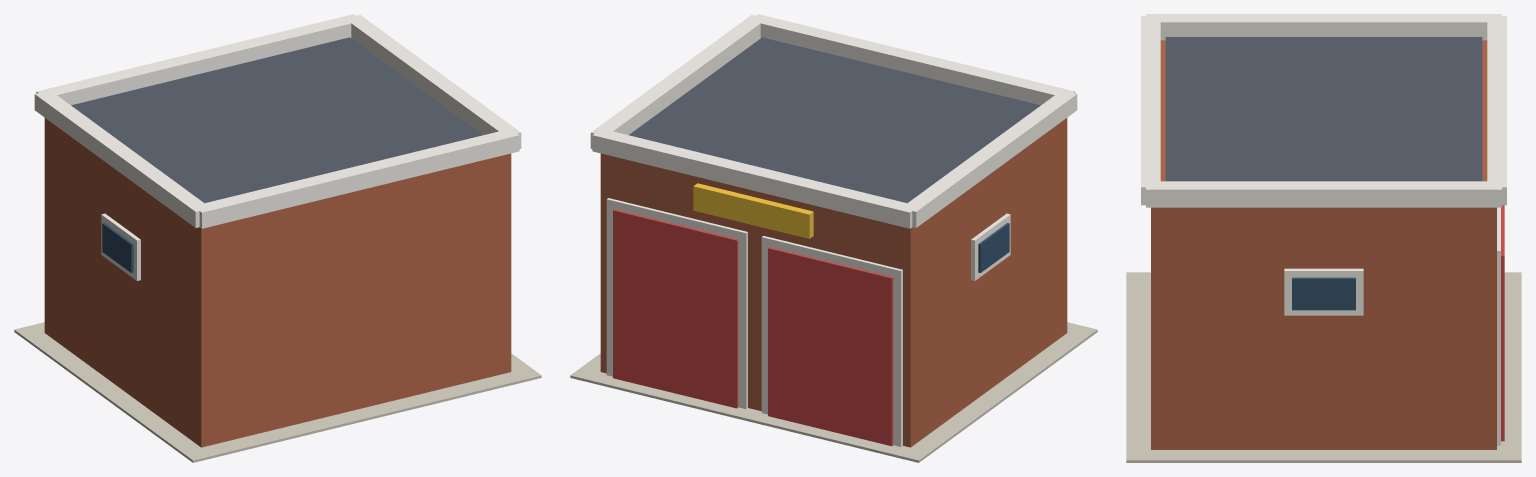
Rendered from annex-engineBay.glb.
3 renders of one model, left to right at view 1: azimuth 30°, elevation 25°; view 2: azimuth 150°, elevation 25°; view 3: azimuth 270°, elevation 25°, orthographic. The views are drawn at different scales.
Parts seen in each view (by area): view 1: building, roof, parapet (×4), ground, window_glass, window_frame; view 2: building, garage_door (×2), roof, parapet (×4), garage_door_frame (×2), ground, sign, window_glass, window_frame; view 3: building, roof, parapet (×4), ground, window_glass, window_frame, garage_door_frame, garage_door.
Boxes of the visible parts, bbox=[...] form: building: bbox=[44, 118, 511, 447]; roof: bbox=[71, 37, 482, 203]; parapet (×4): bbox=[34, 14, 521, 228]; ground: bbox=[14, 322, 541, 462]; window_glass: bbox=[102, 223, 133, 272]; window_frame: bbox=[101, 213, 140, 280]; building: bbox=[600, 118, 1067, 447]; garage_door (×2): bbox=[613, 209, 893, 446]; roof: bbox=[629, 37, 1040, 203]; parapet (×4): bbox=[590, 14, 1077, 228]; garage_door_frame (×2): bbox=[606, 198, 902, 446]; ground: bbox=[570, 322, 1097, 462]; sign: bbox=[693, 183, 813, 238]; window_glass: bbox=[978, 223, 1009, 272]; window_frame: bbox=[971, 213, 1010, 280]; building: bbox=[1151, 40, 1496, 449]; roof: bbox=[1165, 37, 1482, 181]; parapet (×4): bbox=[1141, 14, 1506, 207]; ground: bbox=[1126, 272, 1521, 462]; window_glass: bbox=[1292, 277, 1355, 310]; window_frame: bbox=[1284, 268, 1363, 315]; garage_door_frame: bbox=[1497, 207, 1500, 445]; garage_door: bbox=[1501, 205, 1504, 441].
Bounding box in the file's own units: 9 × 5.96 × 8.
